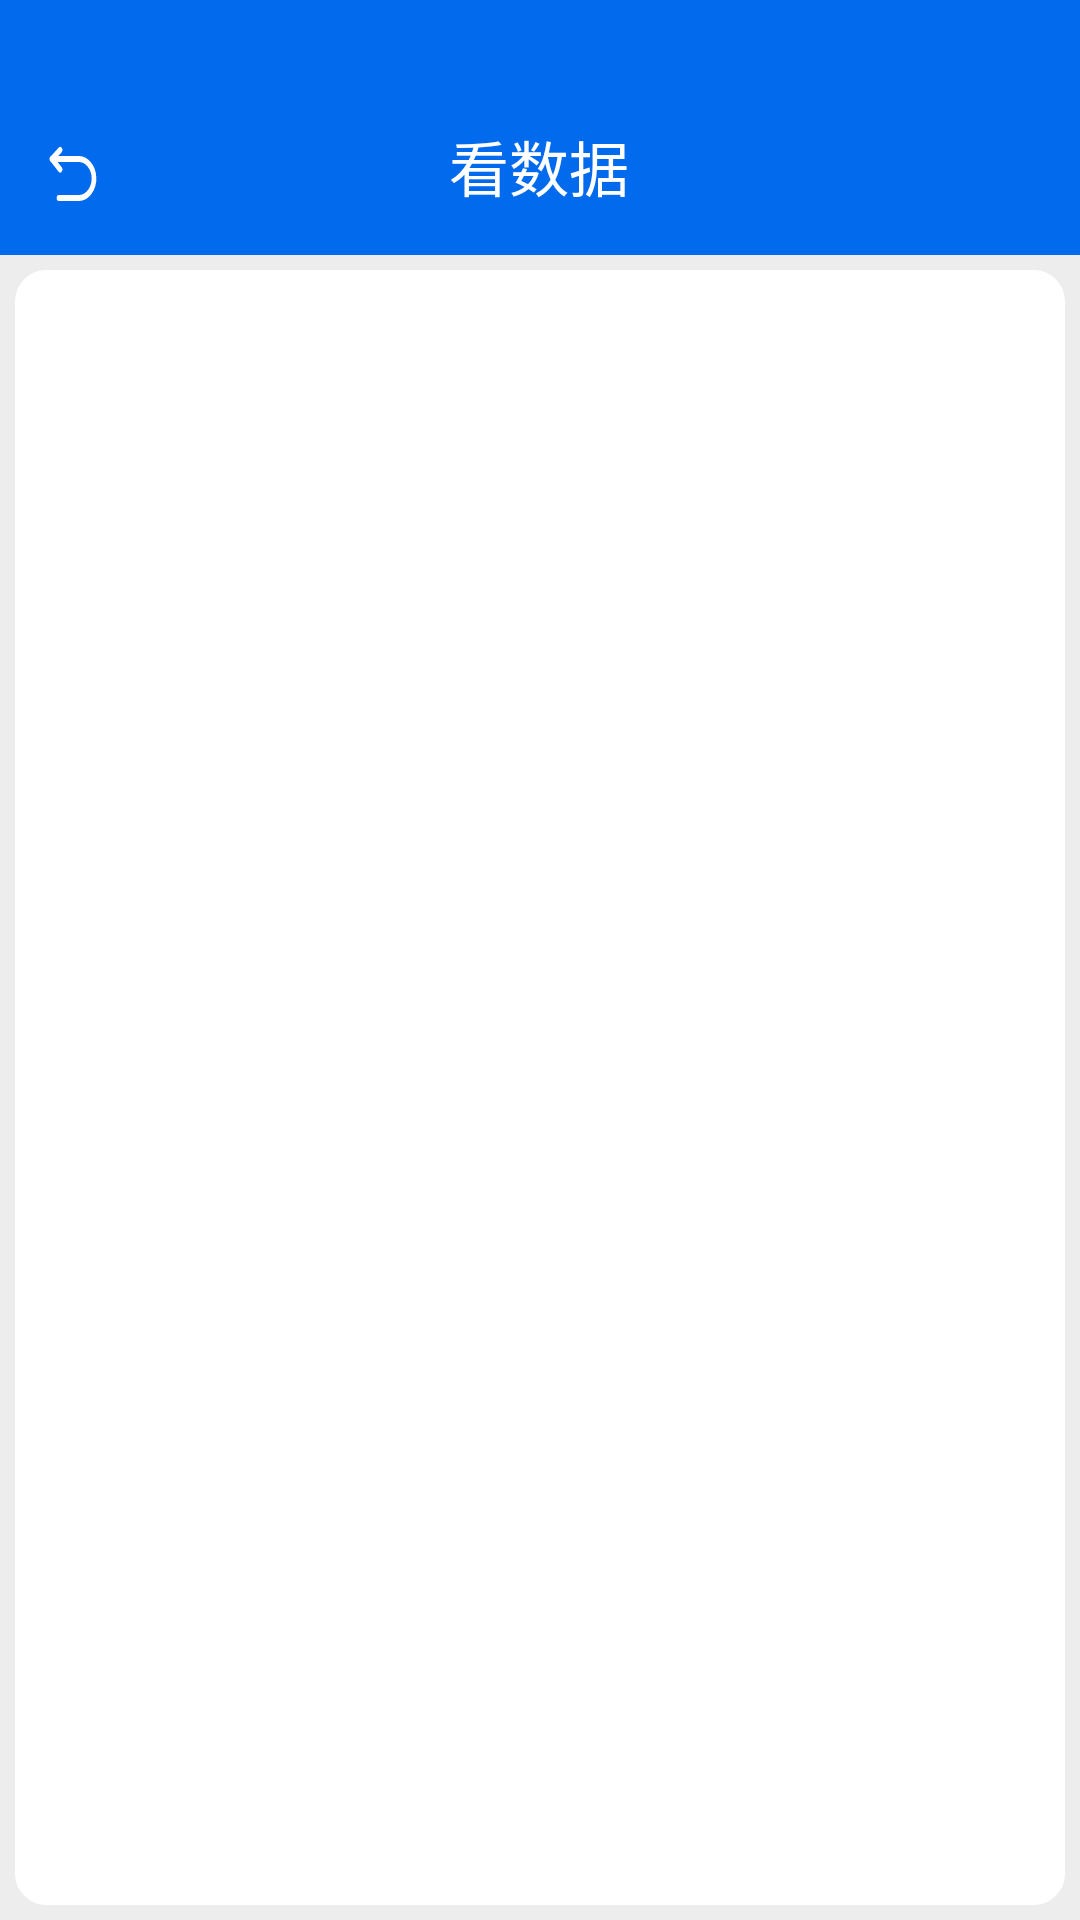

Named icons in this screenshot (1080*1920) and their centers, point (x, y):
res return: point (73, 173)
